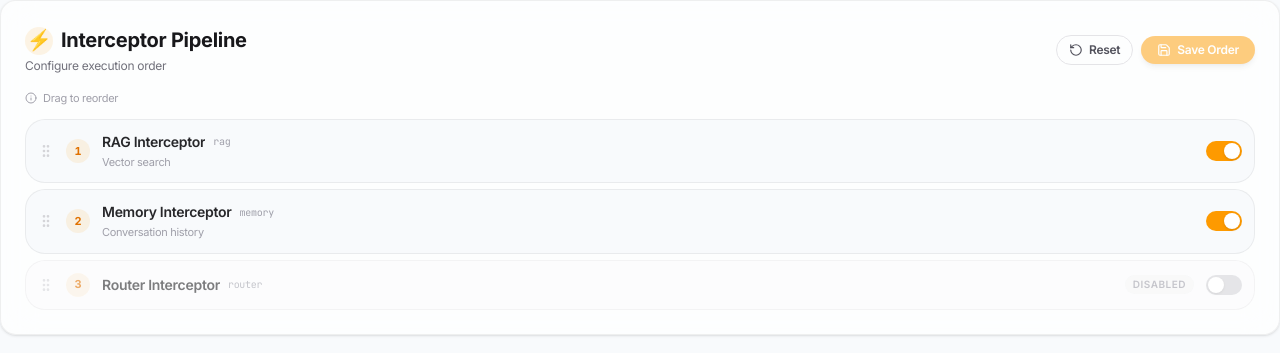
Test: PipelineConfigCard › saves changes when Save Order is clicked
This screenshot has width=1280, height=353.
expect the text "RAG Interceptor" is shown: met, box [102, 132, 205, 152]
Step 1. Click the button named "Toggle RAG Interceptor" → (1224, 151), box [1206, 141, 1242, 161]
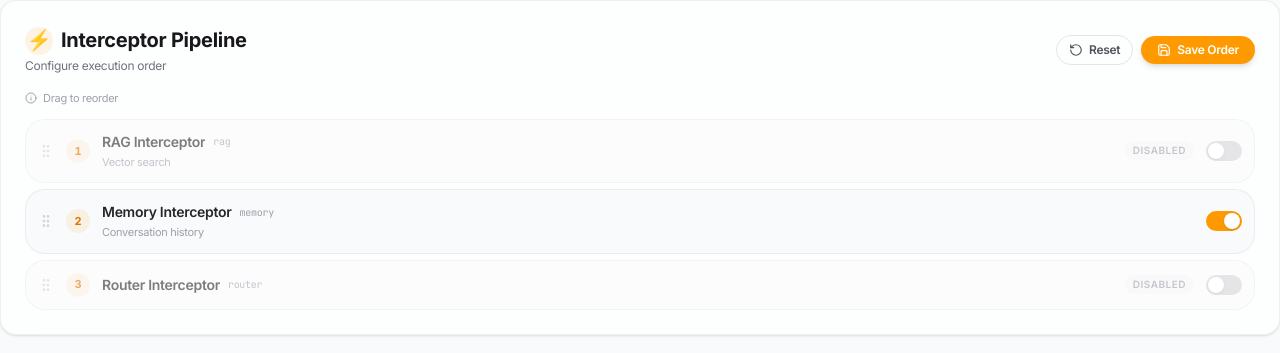
expect the button "Save Order" is enabled: met
Step 2. Click the button "Save Order" → (1198, 50), box [1141, 36, 1255, 64]
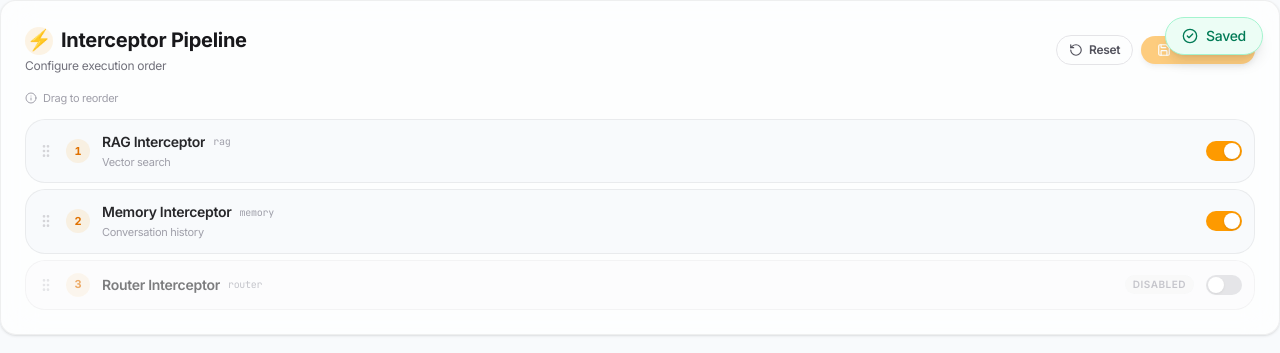
expect the button "Save Order" is disabled: met, box [1141, 36, 1255, 64]
expect the text "Saved" is shown: met, box [1165, 17, 1263, 55]
